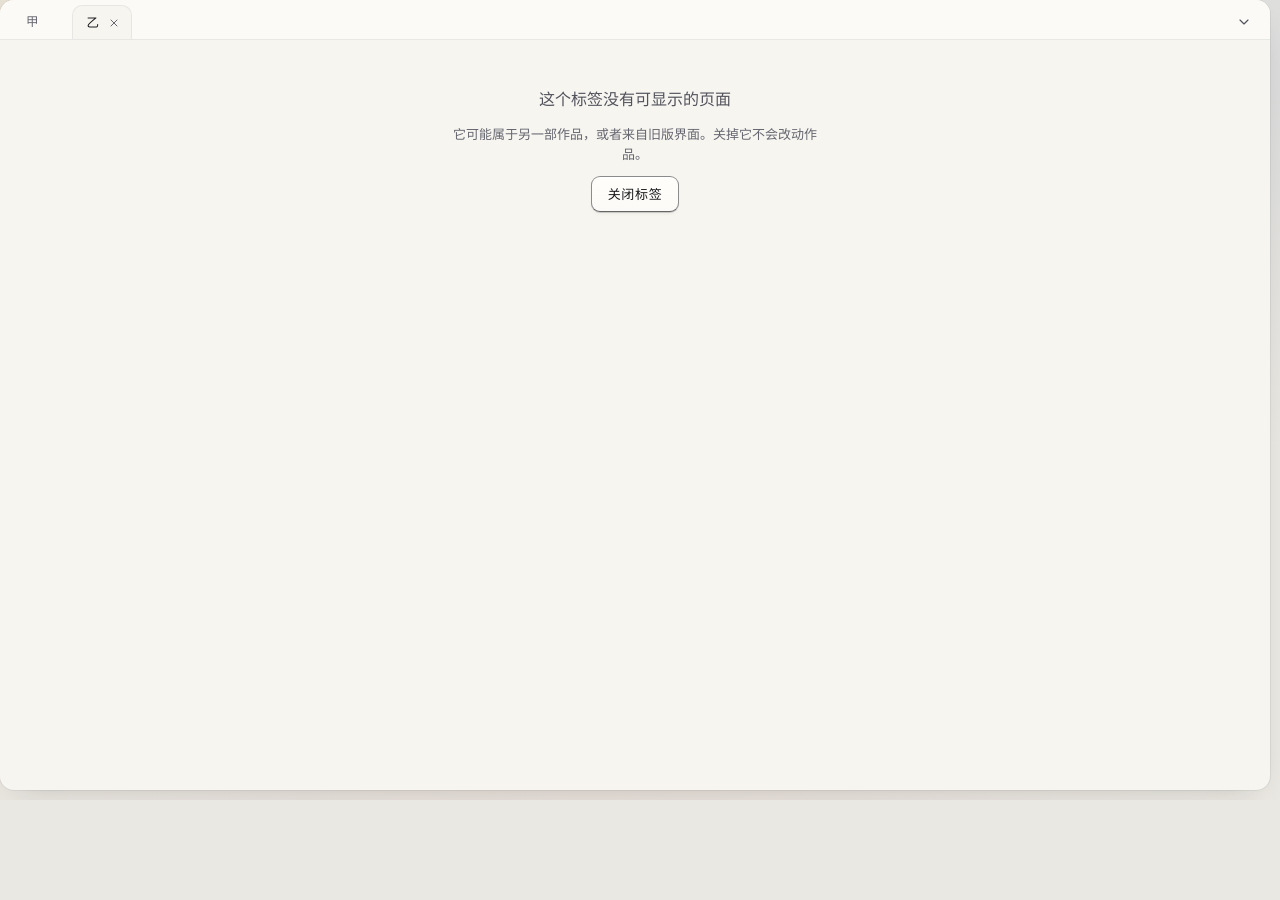
Test: 标签菜单 › 关闭全部标签后回到空的内容区
The image size is (1280, 900).
Click the button named "标签操作" at (1244, 22), box [1226,4,1262,40]
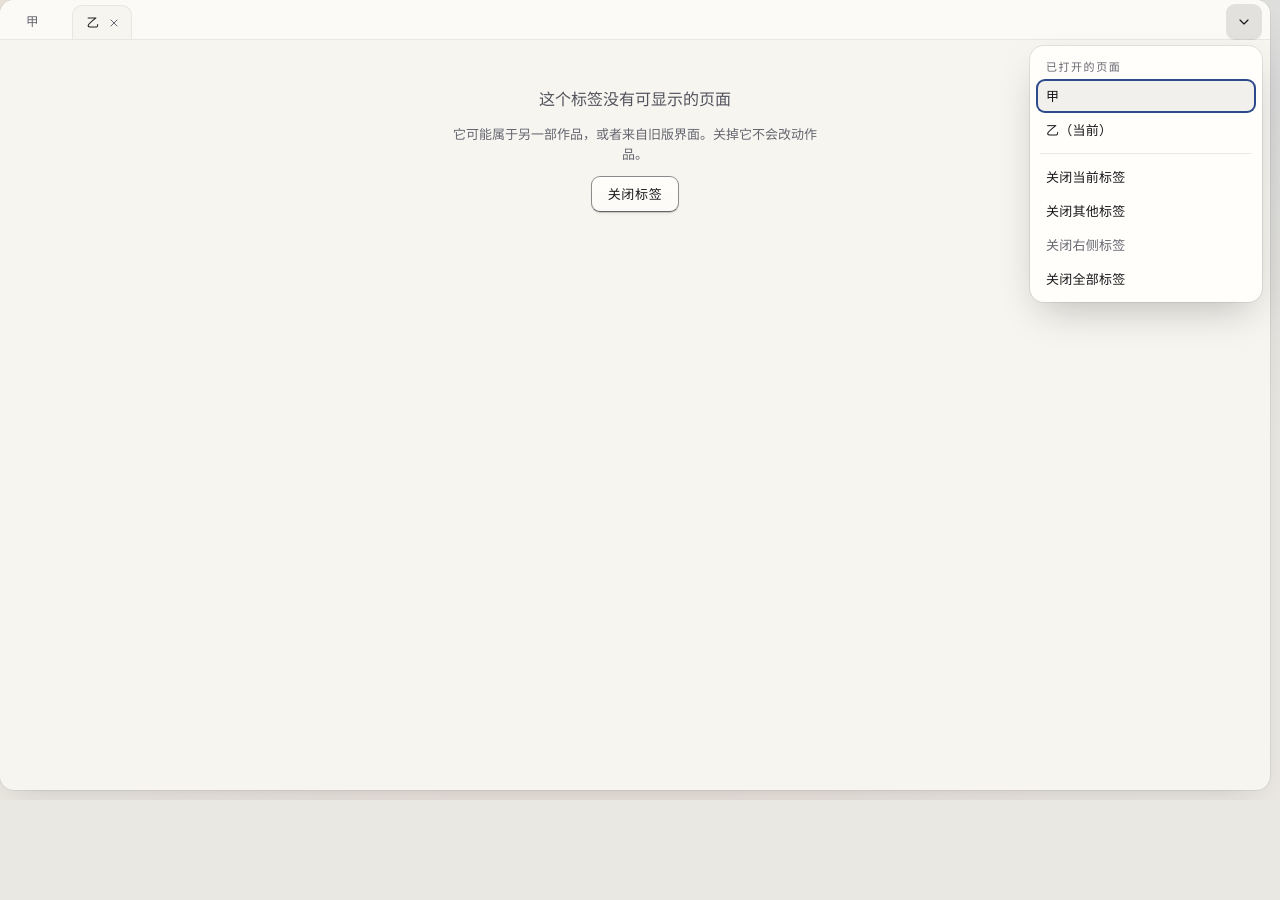
Expected: the menu item "关闭全部标签" is shown
Click the menu item "关闭全部标签" at (1146, 279), box [1036,262,1256,296]
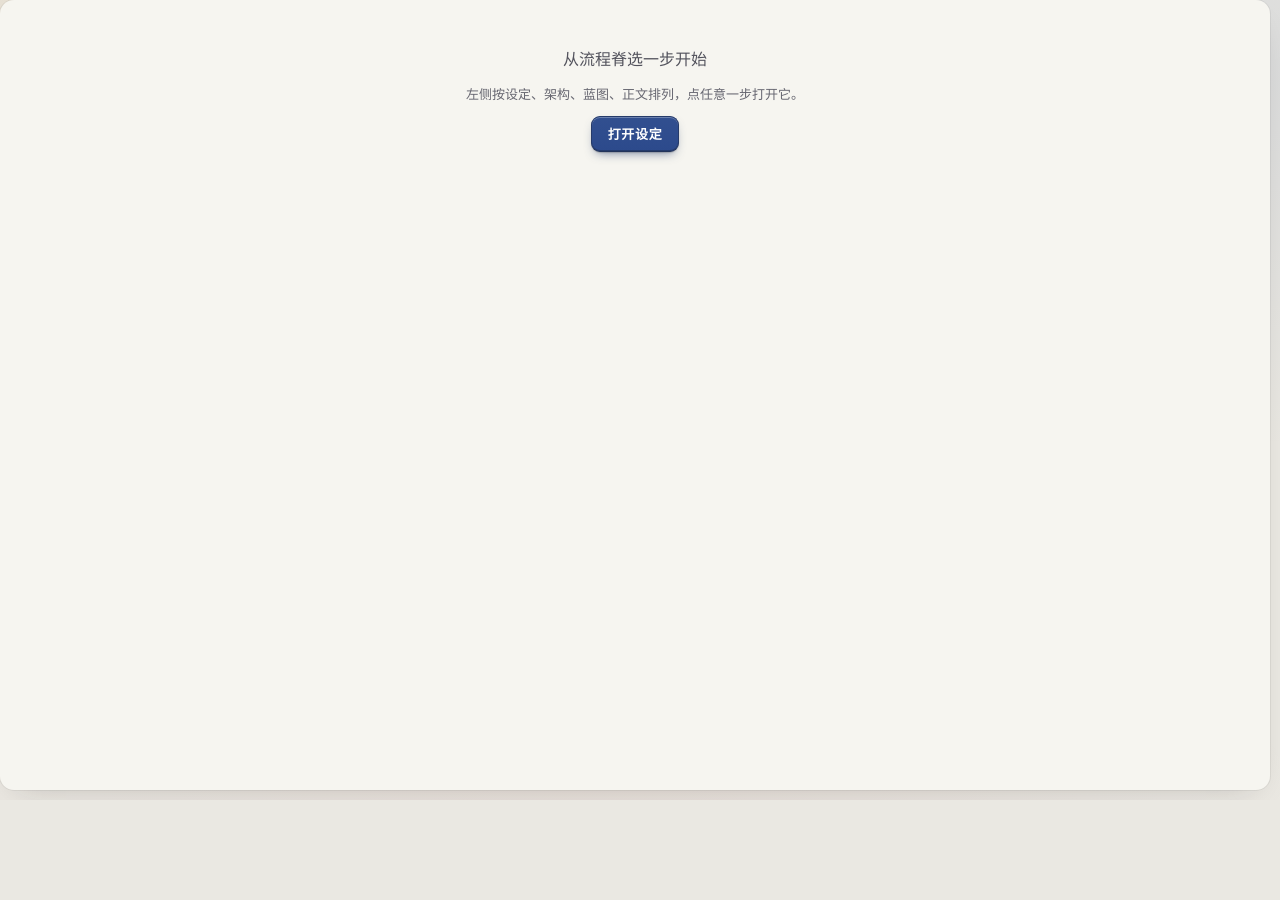
Expected: the text "从流程脊选一步开始" is shown, [563,48,707,72]
